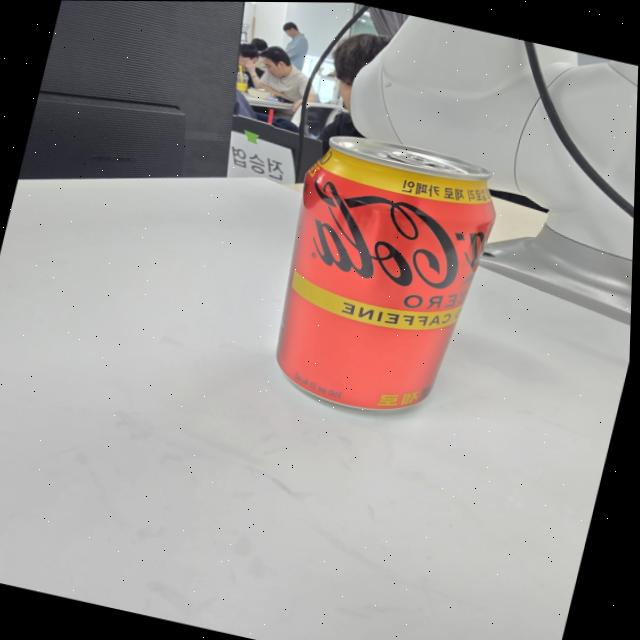can_coke_decaf: (276, 137, 495, 409)
